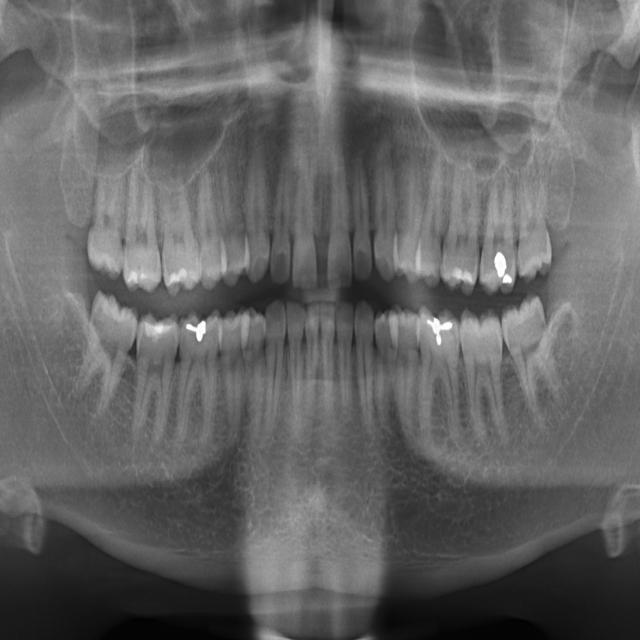3M ESPE Implant: (84, 158, 125, 280)
AGS Medikal Implant: (350, 153, 373, 282)
AMerOss Implant: (373, 136, 397, 282)
Amalgam filling: (396, 151, 425, 285)
Anthogyr Implant: (422, 155, 444, 289)
Bicon Implant: (440, 154, 484, 296)
BioHorizons Implant: (477, 161, 528, 298)
BioLife Implant: (517, 165, 552, 282)
Biomet 3i Implant: (496, 290, 569, 428)
Blue Sky Bio Implant: (459, 306, 511, 444)
Camlog Implant: (418, 304, 462, 445)
Caries: (122, 160, 160, 294)
Composite filling: (393, 303, 421, 450)
Cowellmedi Implant: (374, 308, 396, 437)
Crown: (354, 299, 377, 439)
DENTSPLY Implant: (336, 299, 354, 408)
Dentatus Implant: (321, 300, 335, 398)
Dentis Implant: (301, 300, 320, 410)
Dentium Implant: (281, 300, 306, 425)
Euroteknika Implant: (264, 297, 285, 434)
Filling: (237, 305, 275, 441)
Frontier Implant: (219, 309, 246, 451)
Hiossen Implant: (159, 165, 202, 296)
Implant: (130, 312, 178, 446)
Implant Direct: (172, 308, 221, 450)
Keystone Dental Implant: (68, 287, 145, 419)
MIS Implant: (195, 165, 222, 291)
Mandible: (213, 149, 248, 288)
Maxilla: (242, 134, 271, 284)
Megagen Implant: (269, 149, 298, 286)
Neodent Implant: (284, 139, 318, 290)
Neoss Implant: (323, 138, 352, 290)
